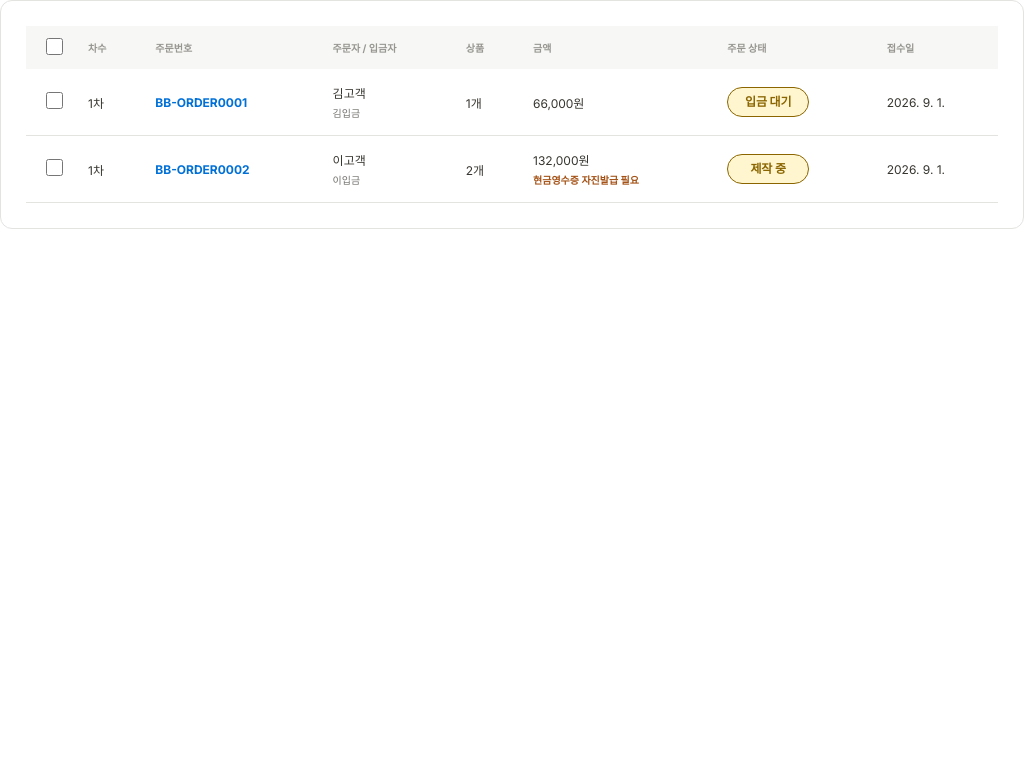
AdminOrdersTable › 조회 결과 전체를 선택하고 부분 선택 상태를 표시한다
Click the checkbox named "조회된 주문 전체 선택".
click(54, 46)  # box [46,38,62,55]
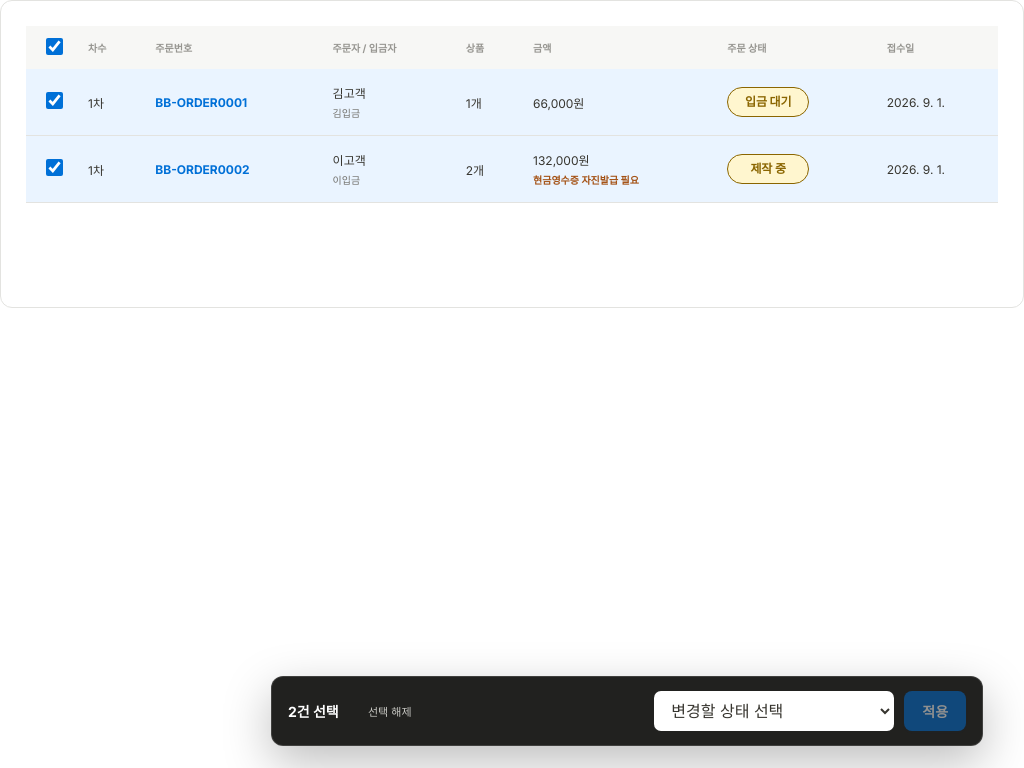
Expected: the checkbox named "조회된 주문 전체 선택" is checked, [46,38,62,55]
Expected: the text "2건 선택" is shown, [288,703,339,720]
Click the checkbox named "BB-ORDER0001 선택".
click(54, 100)  # box [46,92,62,109]
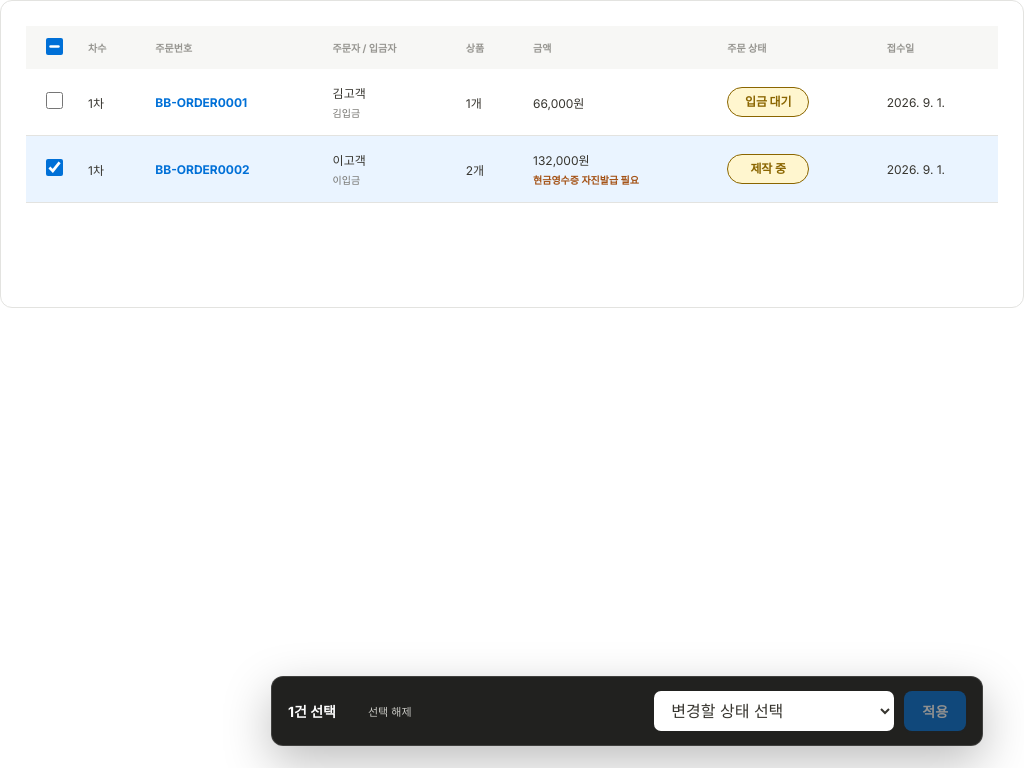
Expected: the checkbox named "조회된 주문 전체 선택" is not checked, [46,38,62,55]
Expected: the text "1건 선택" is shown, [288,703,336,720]
